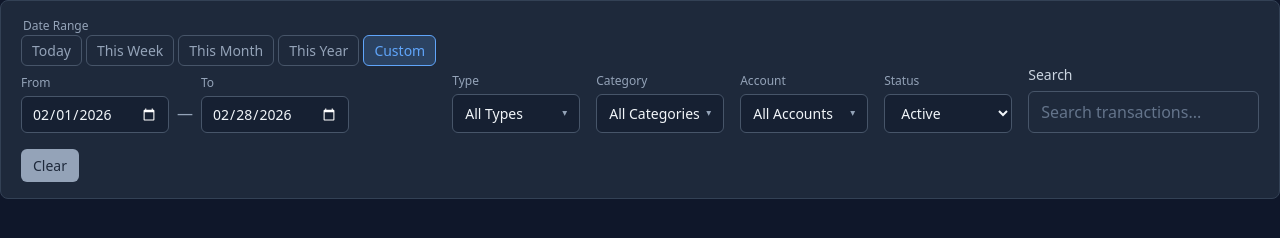
Scenario: TransactionFilters › account filter › shows active account names as options in dropdown
Click the button labelled "All Accounts ▾" at (804, 114), box [740,94,868,133]
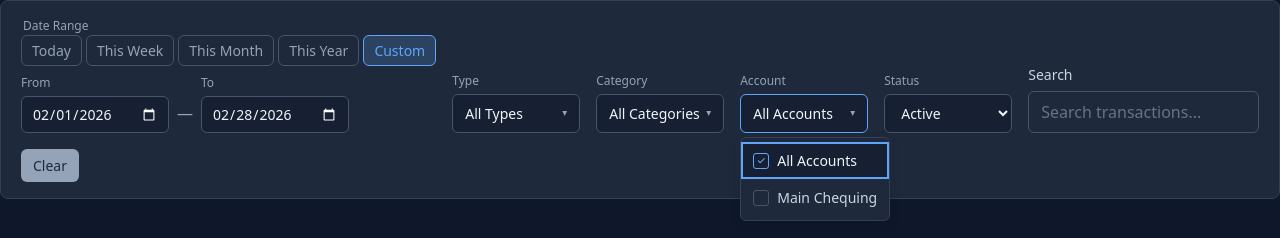
Now the option "Main Chequing" is shown, box [753,188,877,207]
